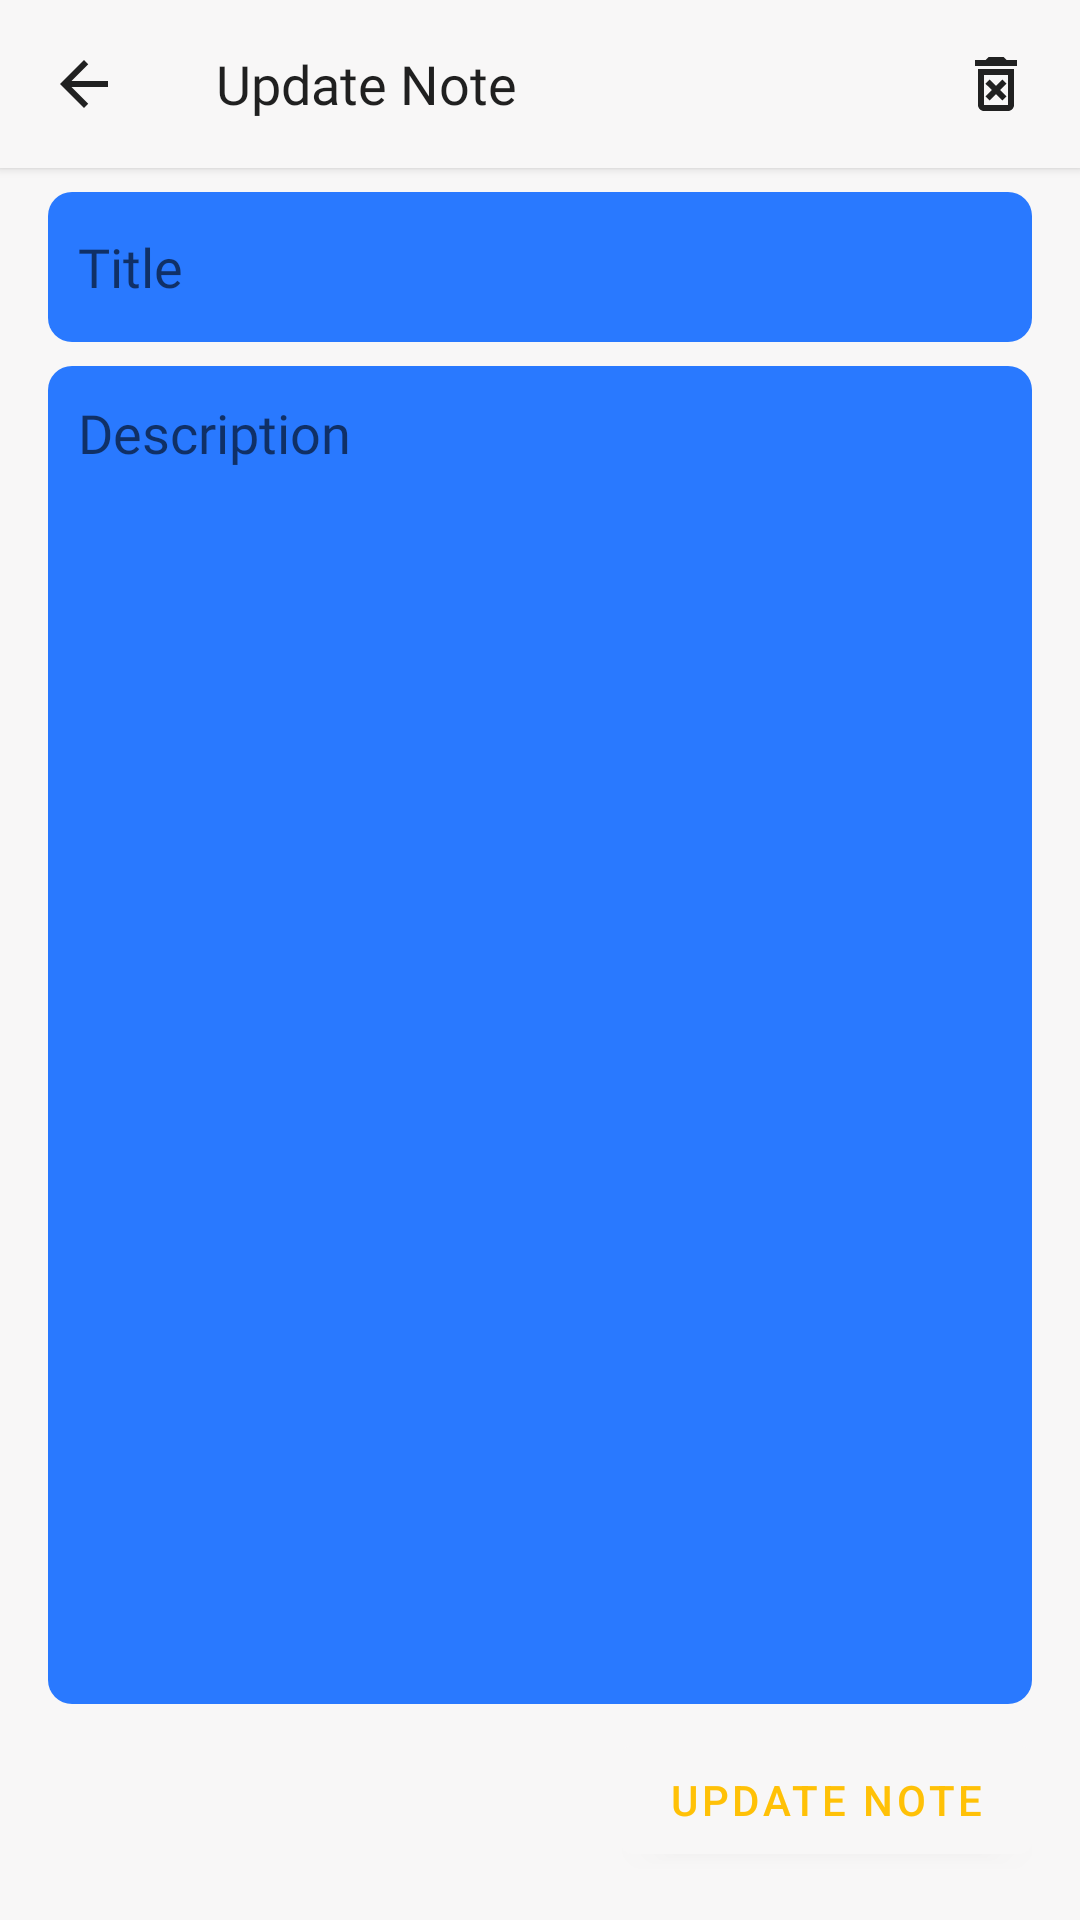

Icon click points for this 1080px×1920px phone screenshot, format [x,y]:
delete: [996,84]
